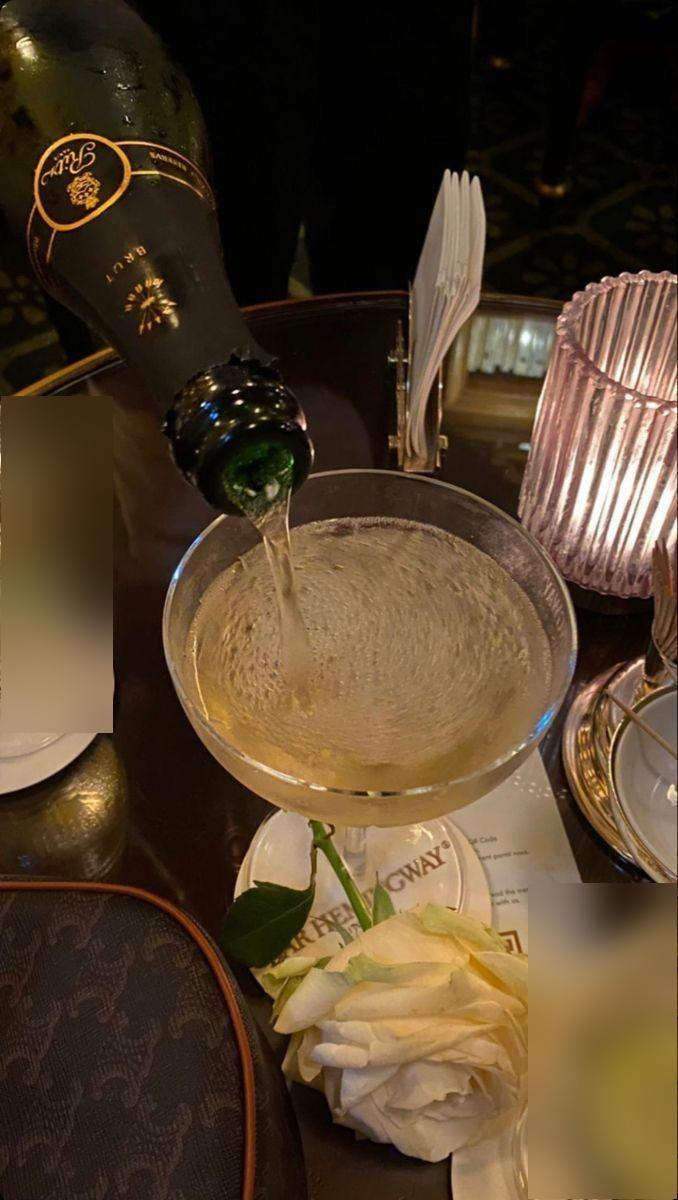bottle-glass: (1, 1, 322, 511)
glass-wine: (157, 452, 596, 1047)
